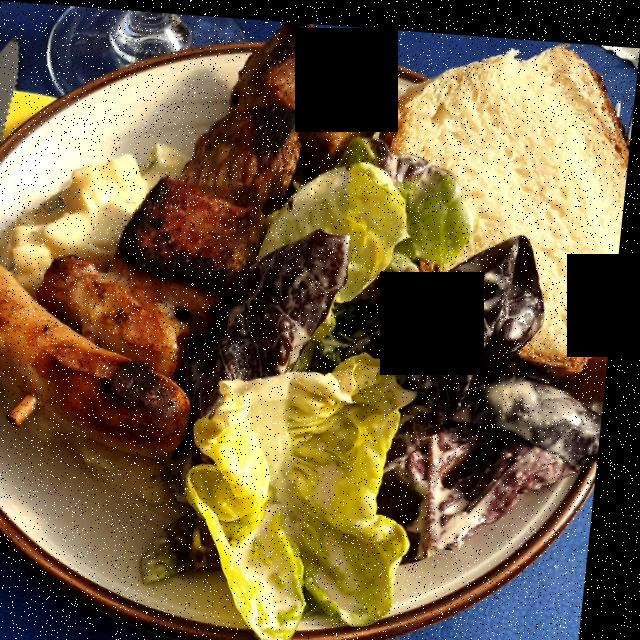beef: (55, 28, 356, 355)
braided-white-loaf: (404, 42, 612, 364)
potato-salad-with-mayonnaise-yogurt-dressing: (3, 130, 184, 266)
salad-leaf-salad-green: (126, 149, 605, 640)
